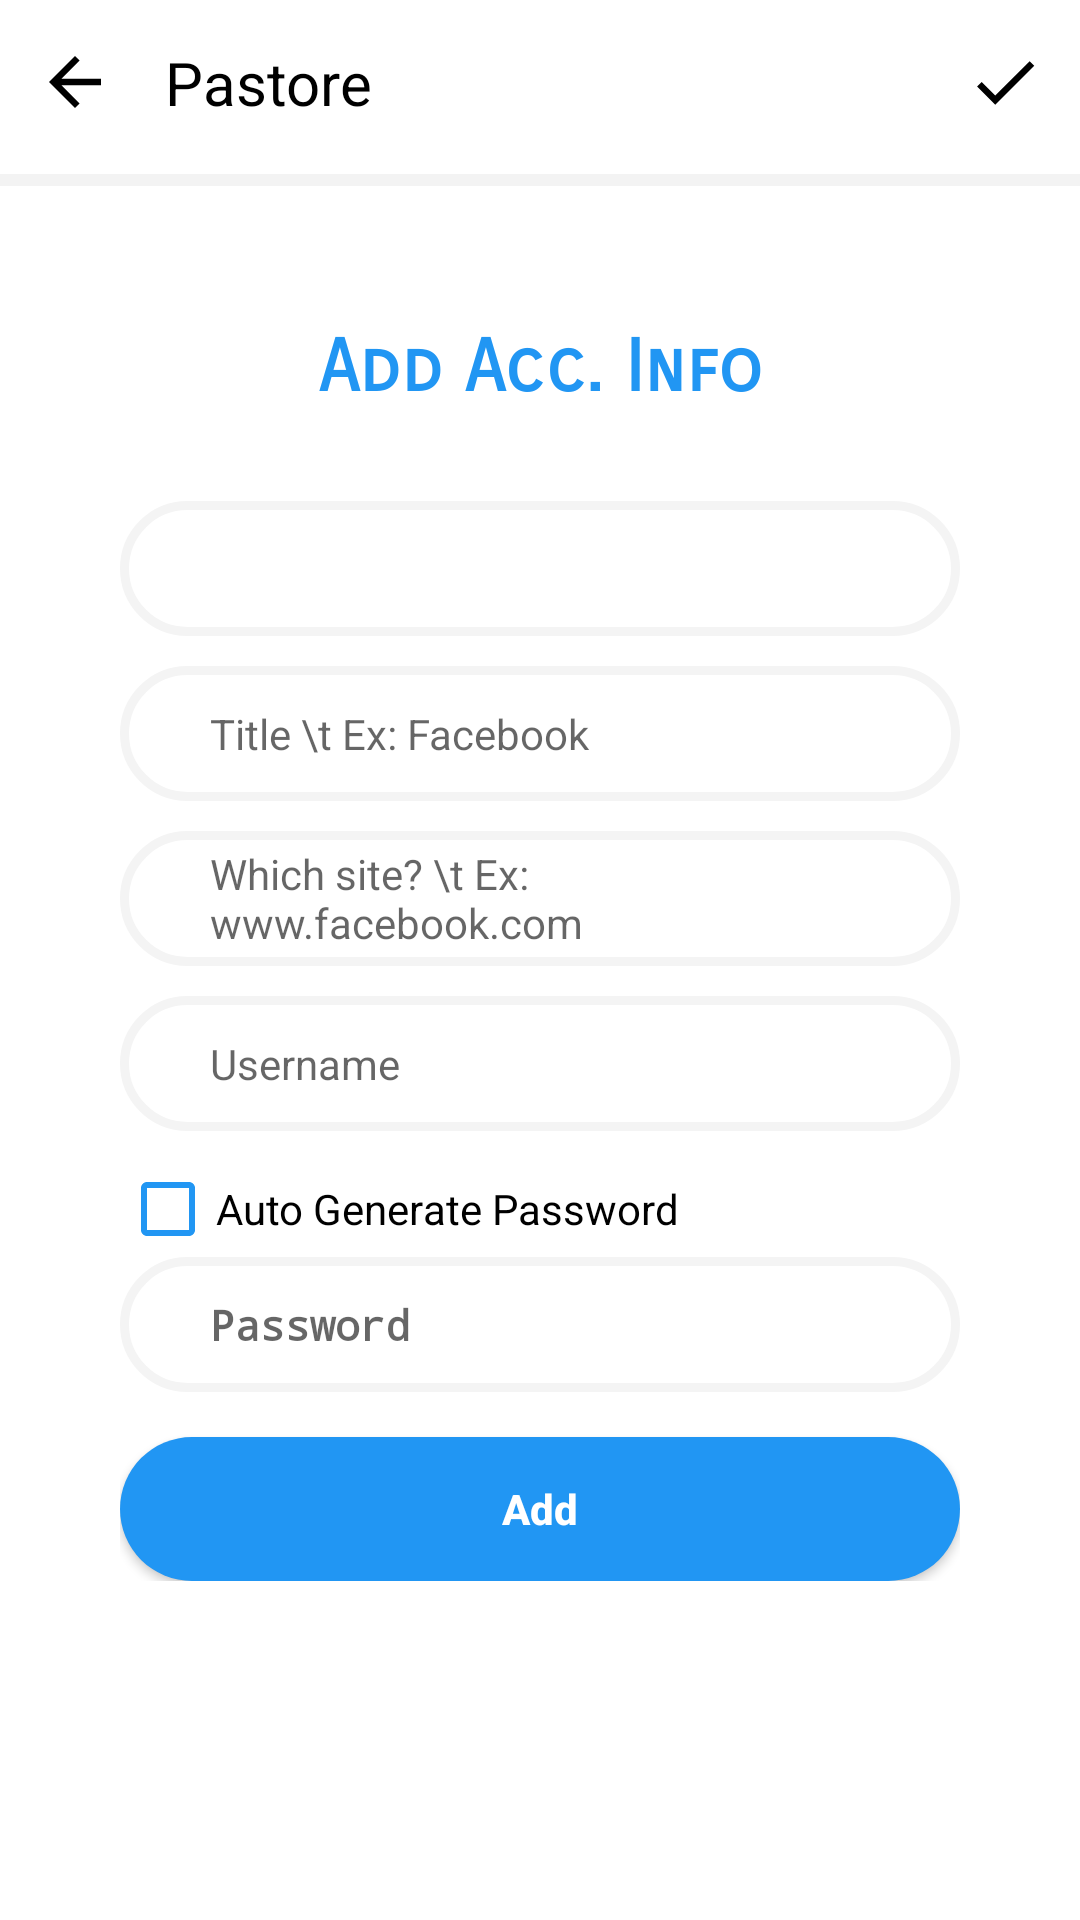

Point at icon controls on the screen. Image size 1080px x 1920px, points as (x,y).
back: (75,82)
check: (1005,83)
